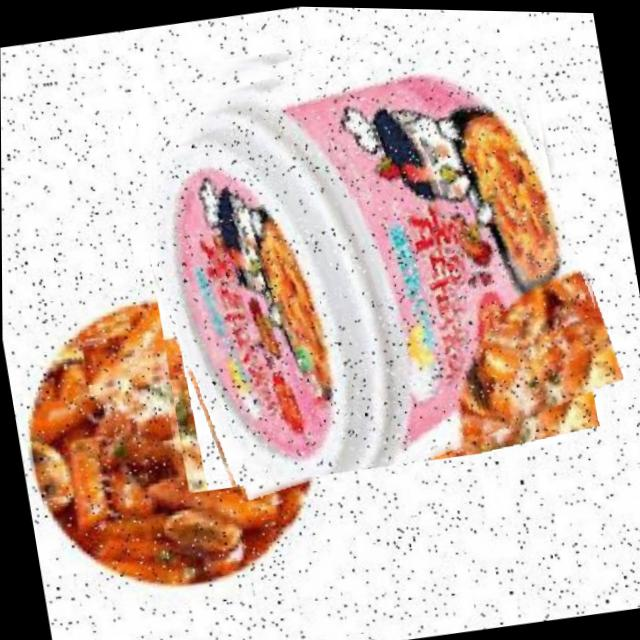Miscellaneous: (116, 2, 619, 499)
